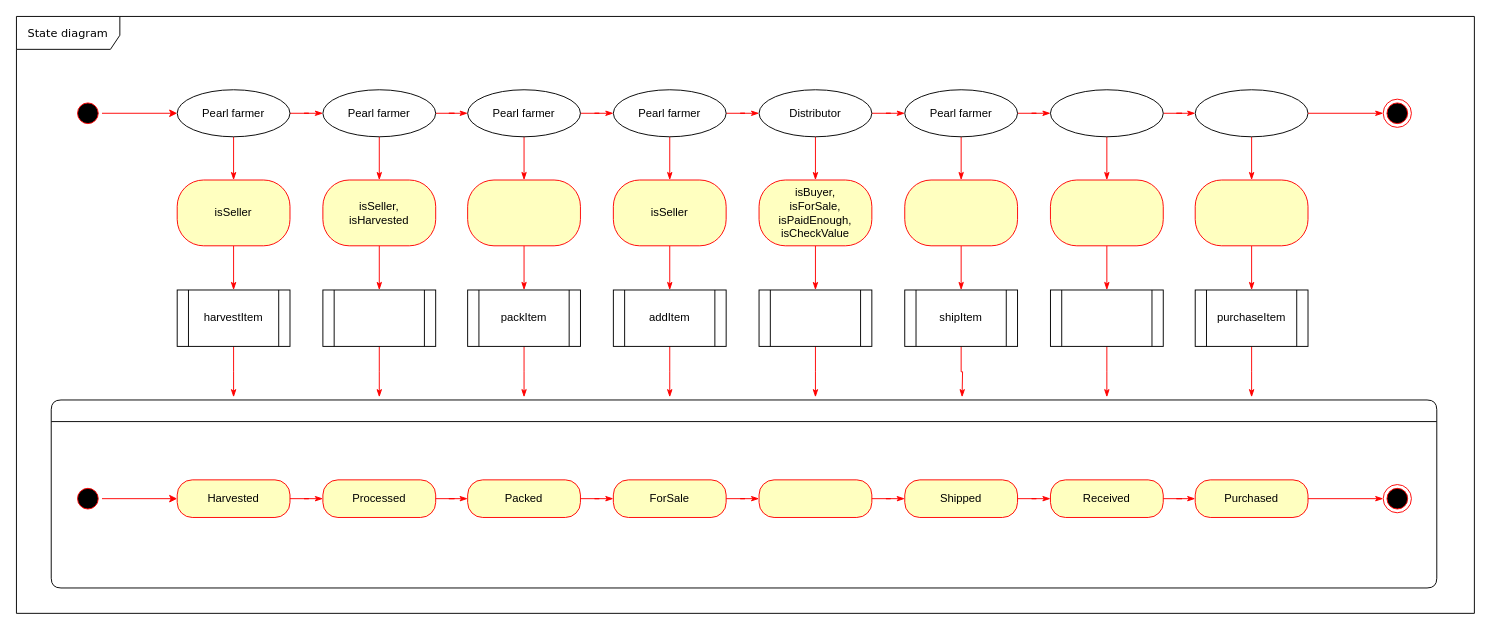
The diagram is 1491 pixels wide and 630 high, and some of its shapes have lost their labels. The box of each missing label's shape, as (x1, y1, x2, y2) in pixels:
buyItem: (758, 289, 872, 346)
Consumer: (1194, 89, 1308, 137)
isConsumer, isForPurchase, isPaidEnough, isCheckValue: (1194, 179, 1308, 246)
isRetailer, isShipped: (1050, 179, 1163, 246)
isSeller, isProcessed: (467, 179, 580, 246)
isSeller, isSold, isPacked: (904, 179, 1018, 246)
Pearl states: (50, 399, 1437, 588)
processItem: (322, 289, 436, 346)
receiveItem: (1050, 289, 1163, 346)
Retailer: (1050, 89, 1163, 137)
Sold: (758, 479, 872, 517)
